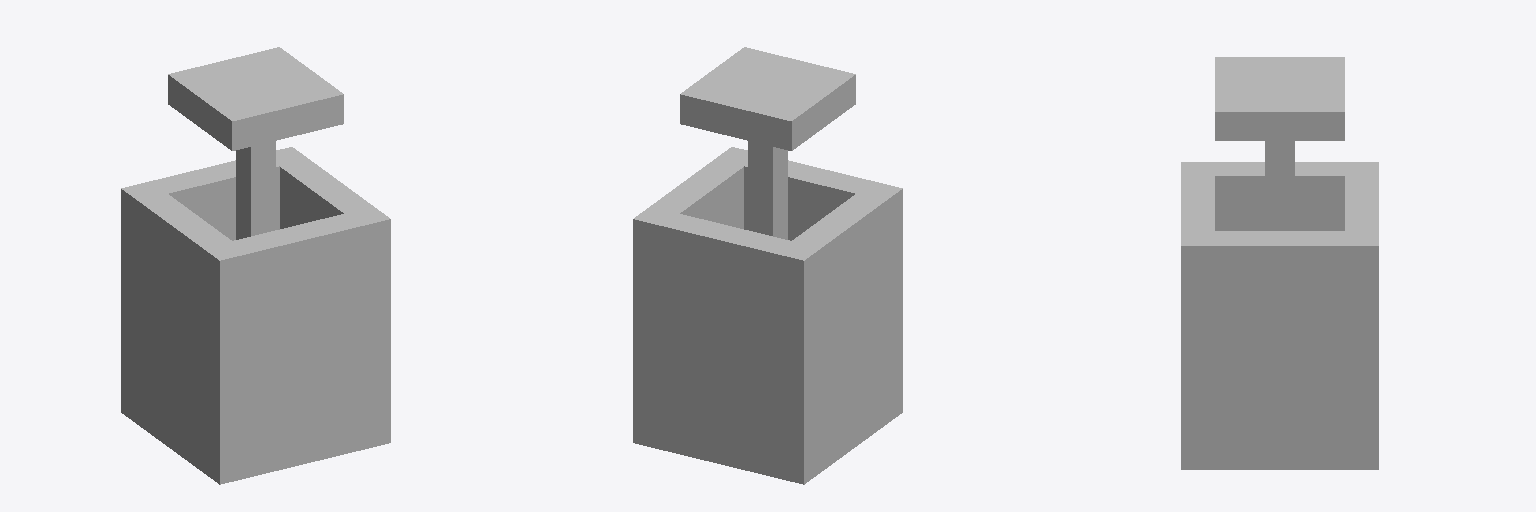
The model's file is lampSquareCeiling.obj.
3 renders of one model, left to right at view 1: azimuth 30°, elevation 25°; view 2: azimuth 150°, elevation 25°; view 3: azimuth 270°, elevation 25°, orthographic.
Parts seen in each view (by area): view 1: lampSquareCeiling; view 2: lampSquareCeiling; view 3: lampSquareCeiling.
Part boxes in pixels (x1,y1,x2,y2): lampSquareCeiling: (121, 47, 390, 484); lampSquareCeiling: (633, 47, 902, 484); lampSquareCeiling: (1181, 57, 1378, 469).
Size of the model in its own units: 0.12 by 0.23 by 0.12.